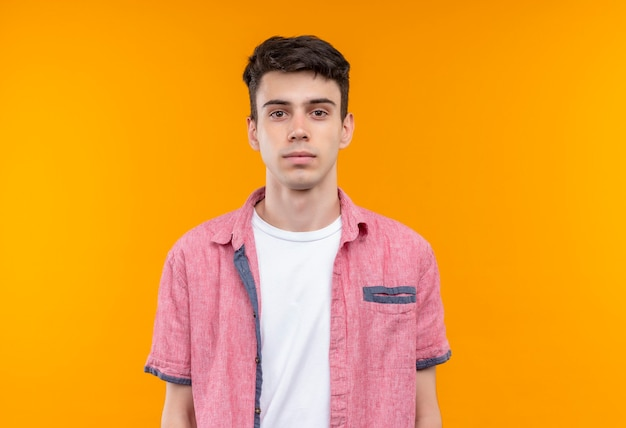teen: (232, 37, 381, 214)
